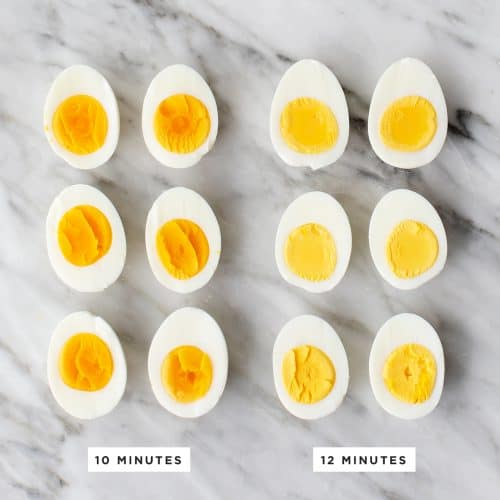Telur: (112, 316, 238, 442), (351, 63, 469, 181), (239, 200, 352, 313), (24, 301, 135, 412), (125, 57, 233, 165), (250, 61, 357, 168), (123, 192, 229, 298), (28, 55, 131, 158), (366, 177, 468, 279), (261, 315, 363, 417), (377, 320, 479, 422), (38, 186, 136, 284)
